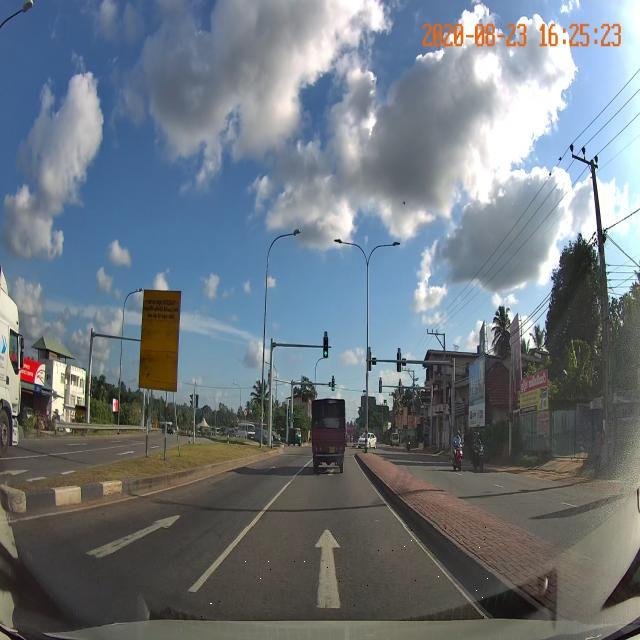forward: (174, 527, 490, 620)
